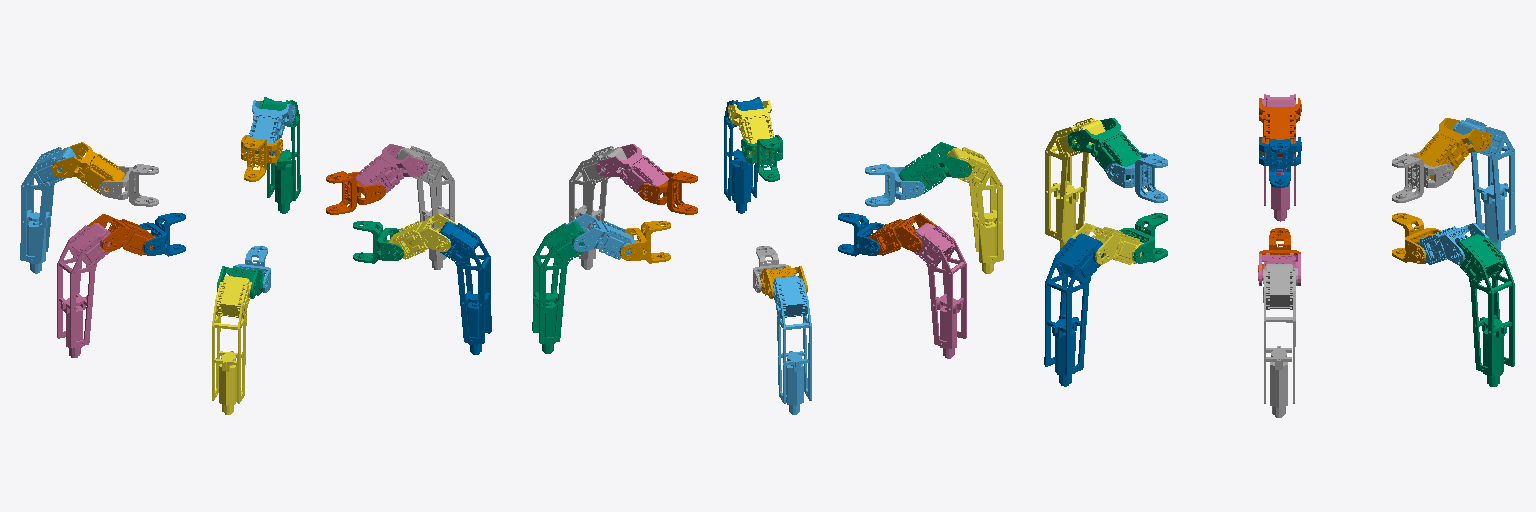
robot.urdf — hexapod:
<?xml version="1.0" ?>
<!-- =================================================================================== -->
<!-- |    This document was autogenerated by xacro from [local-path]/hexapod_ws/src/hexapod_description/urdf/hexapod_description_with_xacro.urdf | -->
<!-- |    EDITING THIS FILE BY HAND IS NOT RECOMMENDED                                 | -->
<!-- =================================================================================== -->
<robot name="hexapod">
  <!-- <link name ="ground">
    <inertial>
      <origin rpy="0 0 0" xyz="0 0 1.0"/>
      <mass value="1"/>
      <inertia ixx="0.3341666666666666" ixy="0.0" ixz="0.0" iyy="0.3341666666666666" iyz="0.0" izz="0.001666666666666667"/>
    </inertial>
  </link>
  <joint name="ground_link" type="floating">
    <origin rpy="0 0 0" xyz="0 0 0.05 "/>
    <parent link="ground"/>
    <child link="body"/>
    <axis xyz="1 1 1"/>
  </joint> -->

  <link name="body">
    <visual>
      <origin rpy="0 0 0" xyz="0 0 0"/>
      <geometry>
        <mesh filename="package://drake/examples/hexapod_drake/mesh/Body.obj"/>
      </geometry>
    </visual>
    <collision>
      <origin rpy="0 0 0" xyz="0 0 0"/>
      <geometry>
        <mesh filename="package://drake/examples/hexapod_drake/mesh/Body.obj"/>
      </geometry>
    </collision>
    <inertial>
      <origin rpy="0 0 0" xyz="0 0 1.0"/>
      <mass value="1"/>
      <inertia ixx="0.3341666666666666" ixy="0.0" ixz="0.0" iyy="0.3341666666666666" iyz="0.0" izz="0.001666666666666667"/>
    </inertial>
  </link>
  <!--Leg 1 front right-->
  <link name="link1">
    <visual>
      <origin rpy="0 0 0" xyz="0 0 0"/>
      <geometry>
        <mesh filename="package://drake/examples/hexapod_drake/mesh/Link1.obj"/>
      </geometry>
    </visual>
    <collision>
      <origin rpy="0 0 0" xyz="0 0 0"/>
      <geometry>
        <mesh filename="package://drake/examples/hexapod_drake/mesh/Link1.obj"/>
      </geometry>
    </collision>
    <inertial>
      <origin rpy="0 0 0" xyz="0 0 1.0"/>
      <mass value="1"/>
      <inertia ixx="0.3341666666666666" ixy="0.0" ixz="0.0" iyy="0.3341666666666666" iyz="0.0" izz="0.001666666666666667"/>
    </inertial>
  </link>
  <joint name="joint1" type="revolute">
    <origin rpy="3.14 0 -0.7853981633974483" xyz="-0.07591 -0.14091 0 "/>
    <parent link="body"/>
    <child link="link1"/>
    <axis xyz="0 0 1"/>
    <limit effort="87" lower="-1.0471975511965976" upper="1.0471975511965976" velocity="2.3925"/>
  </joint>
  <link name="link2">
    <visual>
      <origin rpy="0 0 0" xyz="0 0 0"/>
      <geometry>
        <mesh filename="package://drake/examples/hexapod_drake/mesh/Link2.obj"/>
      </geometry>
    </visual>
    <collision>
      <origin rpy="0 0 0" xyz="0 0 0"/>
      <geometry>
        <mesh filename="package://drake/examples/hexapod_drake/mesh/Link2.obj"/>
      </geometry>
    </collision>
    <inertial>
      <origin rpy="0 0 0" xyz="0 0 1.0"/>
      <mass value="1"/>
      <inertia ixx="0.3341666666666666" ixy="0.0" ixz="0.0" iyy="0.3341666666666666" iyz="0.0" izz="0.001666666666666667"/>
    </inertial>
  </link>
  <joint name="joint2" type="revolute">
    <origin rpy="0.5235987755982988 3.14 0" xyz="0 0.052 0"/>
    <parent link="link1"/>
    <child link="link2"/>
    <axis xyz="1 0 0"/>
    <limit effort="87" lower="-1.5707963267948966" upper="1.0471975511965976" velocity="2.3925"/>
  </joint>
  <link name="link3">
    <visual>
      <origin rpy="0 0 0" xyz="0 0 0"/>
      <geometry>
        <mesh filename="package://drake/examples/hexapod_drake/mesh/Link3.obj"/>
      </geometry>
    </visual>
    <collision>
      <origin rpy="0 0 0" xyz="0 0 0"/>
      <geometry>
        <mesh filename="package://drake/examples/hexapod_drake/mesh/Link3.obj"/>
      </geometry>
    </collision>
    <inertial>
      <origin rpy="0 0 0" xyz="0 0 1.0"/>
      <mass value="1"/>
      <inertia ixx="0.3341666666666666" ixy="0.0" ixz="0.0" iyy="0.3341666666666666" iyz="0.0" izz="0.001666666666666667"/>
    </inertial>
  </link>
  <joint name="joint3" type="revolute">
    <origin rpy="-1.0471975511965976 0 0" xyz="0 0.0645 -0.0145"/>
    <parent link="link2"/>
    <child link="link3"/>
    <axis xyz="1 0 0"/>
    <limit effort="87" lower="-0.5235987755982988" upper="2.0943951023931953" velocity="2.3925"/>
  </joint>
  <!--Leg 2 mid right-->
  <link name="link4">
    <visual>
      <origin rpy="0 0 0" xyz="0 0 0"/>
      <geometry>
        <mesh filename="package://drake/examples/hexapod_drake/mesh/Link1.obj"/>
      </geometry>
    </visual>
    <collision>
      <origin rpy="0 0 0" xyz="0 0 0"/>
      <geometry>
        <mesh filename="package://drake/examples/hexapod_drake/mesh/Link1.obj"/>
      </geometry>
    </collision>
    <inertial>
      <origin rpy="0 0 0" xyz="0 0 1.0"/>
      <mass value="1"/>
      <inertia ixx="0.3341666666666666" ixy="0.0" ixz="0.0" iyy="0.3341666666666666" iyz="0.0" izz="0.001666666666666667"/>
    </inertial>
  </link>
  <joint name="joint4" type="revolute">
    <origin rpy="3.14 0 -1.5707963267948966" xyz="-0.117 0 0 "/>
    <parent link="body"/>
    <child link="link4"/>
    <axis xyz="0 0 1"/>
    <limit effort="87" lower="-1.0471975511965976" upper="1.0471975511965976" velocity="2.3925"/>
  </joint>
  <link name="link5">
    <visual>
      <origin rpy="0 0 0" xyz="0 0 0"/>
      <geometry>
        <mesh filename="package://drake/examples/hexapod_drake/mesh/Link2.obj"/>
      </geometry>
    </visual>
    <collision>
      <origin rpy="0 0 0" xyz="0 0 0"/>
      <geometry>
        <mesh filename="package://drake/examples/hexapod_drake/mesh/Link2.obj"/>
      </geometry>
    </collision>
    <inertial>
      <origin rpy="0 0 0" xyz="0 0 1.0"/>
      <mass value="1"/>
      <inertia ixx="0.3341666666666666" ixy="0.0" ixz="0.0" iyy="0.3341666666666666" iyz="0.0" izz="0.001666666666666667"/>
    </inertial>
  </link>
  <joint name="joint5" type="revolute">
    <origin rpy="0.5235987755982988 3.14 0" xyz="0 0.052 0"/>
    <parent link="link4"/>
    <child link="link5"/>
    <axis xyz="1 0 0"/>
    <limit effort="87" lower="-1.5707963267948966" upper="1.0471975511965976" velocity="2.3925"/>
  </joint>
  <link name="link6">
    <visual>
      <origin rpy="0 0 0" xyz="0 0 0"/>
      <geometry>
        <mesh filename="package://drake/examples/hexapod_drake/mesh/Link3.obj"/>
      </geometry>
    </visual>
    <collision>
      <origin rpy="0 0 0" xyz="0 0 0"/>
      <geometry>
        <mesh filename="package://drake/examples/hexapod_drake/mesh/Link3.obj"/>
      </geometry>
    </collision>
    <inertial>
      <origin rpy="0 0 0" xyz="0 0 1.0"/>
      <mass value="1"/>
      <inertia ixx="0.3341666666666666" ixy="0.0" ixz="0.0" iyy="0.3341666666666666" iyz="0.0" izz="0.001666666666666667"/>
    </inertial>
  </link>
  <joint name="joint6" type="revolute">
    <origin rpy="-1.0471975511965976 0 0" xyz="0 0.0645 -0.0145"/>
    <parent link="link5"/>
    <child link="link6"/>
    <axis xyz="1 0 0"/>
    <limit effort="87" lower="-0.5235987755982988" upper="2.0943951023931953" velocity="2.3925"/>
  </joint>
  <!--Leg 3 back right-->
  <link name="link7">
    <visual>
      <origin rpy="0 0 0" xyz="0 0 0"/>
      <geometry>
        <mesh filename="package://drake/examples/hexapod_drake/mesh/Link1.obj"/>
      </geometry>
    </visual>
    <collision>
      <origin rpy="0 0 0" xyz="0 0 0"/>
      <geometry>
        <mesh filename="package://drake/examples/hexapod_drake/mesh/Link1.obj"/>
      </geometry>
    </collision>
    <inertial>
      <origin rpy="0 0 0" xyz="0 0 1.0"/>
      <mass value="1"/>
      <inertia ixx="0.3341666666666666" ixy="0.0" ixz="0.0" iyy="0.3341666666666666" iyz="0.0" izz="0.001666666666666667"/>
    </inertial>
  </link>
  <joint name="joint7" type="revolute">
    <origin rpy="3.14 0 -2.35619" xyz="-0.07591 0.14091 0 "/>
    <parent link="body"/>
    <child link="link7"/>
    <axis xyz="0 0 1"/>
    <limit effort="87" lower="-1.0471975511965976" upper="1.0471975511965976" velocity="2.3925"/>
  </joint>
  <link name="link8">
    <visual>
      <origin rpy="0 0 0" xyz="0 0 0"/>
      <geometry>
        <mesh filename="package://drake/examples/hexapod_drake/mesh/Link2.obj"/>
      </geometry>
    </visual>
    <collision>
      <origin rpy="0 0 0" xyz="0 0 0"/>
      <geometry>
        <mesh filename="package://drake/examples/hexapod_drake/mesh/Link2.obj"/>
      </geometry>
    </collision>
    <inertial>
      <origin rpy="0 0 0" xyz="0 0 1.0"/>
      <mass value="1"/>
      <inertia ixx="0.3341666666666666" ixy="0.0" ixz="0.0" iyy="0.3341666666666666" iyz="0.0" izz="0.001666666666666667"/>
    </inertial>
  </link>
  <joint name="joint8" type="revolute">
    <origin rpy="0.5235987755982988 3.14 0" xyz="0 0.052 0"/>
    <parent link="link7"/>
    <child link="link8"/>
    <axis xyz="1 0 0"/>
    <limit effort="87" lower="-1.5707963267948966" upper="1.0471975511965976" velocity="2.3925"/>
  </joint>
  <link name="link9">
    <visual>
      <origin rpy="0 0 0" xyz="0 0 0"/>
      <geometry>
        <mesh filename="package://drake/examples/hexapod_drake/mesh/Link3.obj"/>
      </geometry>
    </visual>
    <collision>
      <origin rpy="0 0 0" xyz="0 0 0"/>
      <geometry>
        <mesh filename="package://drake/examples/hexapod_drake/mesh/Link3.obj"/>
      </geometry>
    </collision>
    <inertial>
      <origin rpy="0 0 0" xyz="0 0 1.0"/>
      <mass value="1"/>
      <inertia ixx="0.3341666666666666" ixy="0.0" ixz="0.0" iyy="0.3341666666666666" iyz="0.0" izz="0.001666666666666667"/>
    </inertial>
  </link>
  <joint name="joint9" type="revolute">
    <origin rpy="-1.0471975511965976 0 0" xyz="0 0.0645 -0.0145"/>
    <parent link="link8"/>
    <child link="link9"/>
    <axis xyz="1 0 0"/>
    <limit effort="87" lower="-0.5235987755982988" upper="2.0943951023931953" velocity="2.3925"/>
  </joint>
  <!--Leg 4 front left-->
  <link name="link10">
    <visual>
      <origin rpy="0 0 0" xyz="0 0 0"/>
      <geometry>
        <mesh filename="package://drake/examples/hexapod_drake/mesh/Link1.obj"/>
      </geometry>
    </visual>
    <collision>
      <origin rpy="0 0 0" xyz="0 0 0"/>
      <geometry>
        <mesh filename="package://drake/examples/hexapod_drake/mesh/Link1.obj"/>
      </geometry>
    </collision>
    <inertial>
      <origin rpy="0 0 0" xyz="0 0 1.0"/>
      <mass value="1"/>
      <inertia ixx="0.3341666666666666" ixy="0.0" ixz="0.0" iyy="0.3341666666666666" iyz="0.0" izz="0.001666666666666667"/>
    </inertial>
  </link>
  <joint name="joint10" type="revolute">
    <origin rpy="3.14 0 0.78699" xyz="0.07591 -0.14091 0 "/>
    <parent link="body"/>
    <child link="link10"/>
    <axis xyz="0 0 1"/>
    <limit effort="87" lower="-1.0471975511965976" upper="1.0471975511965976" velocity="2.3925"/>
  </joint>
  <link name="link11">
    <visual>
      <origin rpy="0 0 0" xyz="0 0 0"/>
      <geometry>
        <mesh filename="package://drake/examples/hexapod_drake/mesh/Link2.obj"/>
      </geometry>
    </visual>
    <collision>
      <origin rpy="0 0 0" xyz="0 0 0"/>
      <geometry>
        <mesh filename="package://drake/examples/hexapod_drake/mesh/Link2.obj"/>
      </geometry>
    </collision>
    <inertial>
      <origin rpy="0 0 0" xyz="0 0 1.0"/>
      <mass value="1"/>
      <inertia ixx="0.3341666666666666" ixy="0.0" ixz="0.0" iyy="0.3341666666666666" iyz="0.0" izz="0.001666666666666667"/>
    </inertial>
  </link>
  <joint name="joint11" type="revolute">
    <origin rpy="0.5235987755982988 3.14 0" xyz="0 0.052 0"/>
    <parent link="link10"/>
    <child link="link11"/>
    <axis xyz="1 0 0"/>
    <limit effort="87" lower="-1.5707963267948966" upper="1.0471975511965976" velocity="2.3925"/>
  </joint>
  <link name="link12">
    <visual>
      <origin rpy="0 0 0" xyz="0 0 0"/>
      <geometry>
        <mesh filename="package://drake/examples/hexapod_drake/mesh/Link3.obj"/>
      </geometry>
    </visual>
    <collision>
      <origin rpy="0 0 0" xyz="0 0 0"/>
      <geometry>
        <mesh filename="package://drake/examples/hexapod_drake/mesh/Link3.obj"/>
      </geometry>
    </collision>
    <inertial>
      <origin rpy="0 0 0" xyz="0 0 1.0"/>
      <mass value="1"/>
      <inertia ixx="0.3341666666666666" ixy="0.0" ixz="0.0" iyy="0.3341666666666666" iyz="0.0" izz="0.001666666666666667"/>
    </inertial>
  </link>
  <joint name="joint12" type="revolute">
    <origin rpy="-1.0471975511965976 0 0" xyz="0 0.0645 -0.0145"/>
    <parent link="link11"/>
    <child link="link12"/>
    <axis xyz="1 0 0"/>
    <limit effort="87" lower="-0.5235987755982988" upper="2.0943951023931953" velocity="2.3925"/>
  </joint>
  <!--Leg 5 mid left-->
  <link name="link13">
    <visual>
      <origin rpy="0 0 0" xyz="0 0 0"/>
      <geometry>
        <mesh filename="package://drake/examples/hexapod_drake/mesh/Link1.obj"/>
      </geometry>
    </visual>
    <collision>
      <origin rpy="0 0 0" xyz="0 0 0"/>
      <geometry>
        <mesh filename="package://drake/examples/hexapod_drake/mesh/Link1.obj"/>
      </geometry>
    </collision>
    <inertial>
      <origin rpy="0 0 0" xyz="0 0 1.0"/>
      <mass value="1"/>
      <inertia ixx="0.3341666666666666" ixy="0.0" ixz="0.0" iyy="0.3341666666666666" iyz="0.0" izz="0.001666666666666667"/>
    </inertial>
  </link>
  <joint name="joint13" type="revolute">
    <origin rpy="3.14 0 1.57" xyz="0.117 0 0 "/>
    <parent link="body"/>
    <child link="link13"/>
    <axis xyz="0 0 1"/>
    <limit effort="87" lower="-1.0471975511965976" upper="1.0471975511965976" velocity="2.3925"/>
  </joint>
  <link name="link14">
    <visual>
      <origin rpy="0 0 0" xyz="0 0 0"/>
      <geometry>
        <mesh filename="package://drake/examples/hexapod_drake/mesh/Link2.obj"/>
      </geometry>
    </visual>
    <collision>
      <origin rpy="0 0 0" xyz="0 0 0"/>
      <geometry>
        <mesh filename="package://drake/examples/hexapod_drake/mesh/Link2.obj"/>
      </geometry>
    </collision>
    <inertial>
      <origin rpy="0 0 0" xyz="0 0 1.0"/>
      <mass value="1"/>
      <inertia ixx="0.3341666666666666" ixy="0.0" ixz="0.0" iyy="0.3341666666666666" iyz="0.0" izz="0.001666666666666667"/>
    </inertial>
  </link>
  <joint name="joint14" type="revolute">
    <origin rpy="0.5235987755982988 3.14 0" xyz="0 0.052 0"/>
    <parent link="link13"/>
    <child link="link14"/>
    <axis xyz="1 0 0"/>
    <limit effort="87" lower="-1.5707963267948966" upper="1.0471975511965976" velocity="2.3925"/>
  </joint>
  <link name="link15">
    <visual>
      <origin rpy="0 0 0" xyz="0 0 0"/>
      <geometry>
        <mesh filename="package://drake/examples/hexapod_drake/mesh/Link3.obj"/>
      </geometry>
    </visual>
    <collision>
      <origin rpy="0 0 0" xyz="0 0 0"/>
      <geometry>
        <mesh filename="package://drake/examples/hexapod_drake/mesh/Link3.obj"/>
      </geometry>
    </collision>
    <inertial>
      <origin rpy="0 0 0" xyz="0 0 1.0"/>
      <mass value="1"/>
      <inertia ixx="0.3341666666666666" ixy="0.0" ixz="0.0" iyy="0.3341666666666666" iyz="0.0" izz="0.001666666666666667"/>
    </inertial>
  </link>
  <joint name="joint15" type="revolute">
    <origin rpy="-1.0471975511965976 0 0" xyz="0 0.0645 -0.0145"/>
    <parent link="link14"/>
    <child link="link15"/>
    <axis xyz="1 0 0"/>
    <limit effort="87" lower="-0.5235987755982988" upper="2.0943951023931953" velocity="2.3925"/>
  </joint>
  <!--Leg 6 back left-->
  <link name="link16">
    <visual>
      <origin rpy="0 0 0" xyz="0 0 0"/>
      <geometry>
        <mesh filename="package://drake/examples/hexapod_drake/mesh/Link1.obj"/>
      </geometry>
    </visual>
    <collision>
      <origin rpy="0 0 0" xyz="0 0 0"/>
      <geometry>
        <mesh filename="package://drake/examples/hexapod_drake/mesh/Link1.obj"/>
      </geometry>
    </collision>
    <inertial>
      <origin rpy="0 0 0" xyz="0 0 1.0"/>
      <mass value="1"/>
      <inertia ixx="0.3341666666666666" ixy="0.0" ixz="0.0" iyy="0.3341666666666666" iyz="0.0" izz="0.001666666666666667"/>
    </inertial>
  </link>
  <joint name="joint16" type="revolute">
    <origin rpy="3.14 0 2.3546018366" xyz="0.07591 0.14091 0 "/>
    <parent link="body"/>
    <child link="link16"/>
    <axis xyz="0 0 1"/>
    <limit effort="87" lower="-1.0471975511965976" upper="1.0471975511965976" velocity="2.3925"/>
  </joint>
  <link name="link17">
    <visual>
      <origin rpy="0 0 0" xyz="0 0 0"/>
      <geometry>
        <mesh filename="package://drake/examples/hexapod_drake/mesh/Link2.obj"/>
      </geometry>
    </visual>
    <collision>
      <origin rpy="0 0 0" xyz="0 0 0"/>
      <geometry>
        <mesh filename="package://drake/examples/hexapod_drake/mesh/Link2.obj"/>
      </geometry>
    </collision>
    <inertial>
      <origin rpy="0 0 0" xyz="0 0 1.0"/>
      <mass value="1"/>
      <inertia ixx="0.3341666666666666" ixy="0.0" ixz="0.0" iyy="0.3341666666666666" iyz="0.0" izz="0.001666666666666667"/>
    </inertial>
  </link>
  <joint name="joint17" type="revolute">
    <origin rpy="0.5235987755982988 3.14 0" xyz="0 0.052 0"/>
    <parent link="link16"/>
    <child link="link17"/>
    <axis xyz="1 0 0"/>
    <limit effort="87" lower="-1.5707963267948966" upper="1.0471975511965976" velocity="2.3925"/>
  </joint>
  <link name="link18">
    <visual>
      <origin rpy="0 0 0" xyz="0 0 0"/>
      <geometry>
        <mesh filename="package://drake/examples/hexapod_drake/mesh/Link3.obj"/>
      </geometry>
    </visual>
    <collision>
      <origin rpy="0 0 0" xyz="0 0 0"/>
      <geometry>
        <mesh filename="package://drake/examples/hexapod_drake/mesh/Link3.obj"/>
      </geometry>
    </collision>
    <inertial>
      <origin rpy="0 0 0" xyz="0 0 1.0"/>
      <mass value="1"/>
      <inertia ixx="0.3341666666666666" ixy="0.0" ixz="0.0" iyy="0.3341666666666666" iyz="0.0" izz="0.001666666666666667"/>
    </inertial>
  </link>
  <joint name="joint18" type="revolute">
    <origin rpy="-1.0471975511965976 0 0" xyz="0 0.0645 -0.0145"/>
    <parent link="link17"/>
    <child link="link18"/>
    <axis xyz="1 0 0"/>
    <limit effort="87" lower="-0.5235987755982988" upper="2.0943951023931953" velocity="2.3925"/>
  </joint>
</robot>

--- What the picture shows (computed from the rendered views, not written in the file) ---
3 views of the same robot in one strip: view 1: azimuth 30°, elevation 25°; view 2: azimuth 150°, elevation 25°; view 3: azimuth 270°, elevation 25° (orthographic).
Robot: hexapod — 19 links, 18 joints (18 revolute); root link body; default pose: every joint at zero.
Links seen in each view (by area): view 1: link6, link12, link3, link9, link15, link18, link8, link14, link11, link5, link13, link7 (+6 smaller); view 2: link6, link18, link9, link3, link15, link12, link2, link14, link17, link5, link13, link1 (+6 smaller); view 3: link12, link18, link9, link3, link15, link2, link8, link1, link7, link4, link17, link11 (+6 smaller).
Link boxes in pixels (x1,y1,x2,y2): link6: (57, 223, 110, 357); link12: (439, 222, 491, 354); link3: (212, 276, 251, 414); link9: (20, 147, 76, 273); link15: (396, 146, 454, 269); link18: (258, 97, 300, 213); link8: (52, 142, 125, 194); link14: (355, 144, 427, 195); link11: (388, 213, 457, 259); link5: (87, 214, 155, 255); link13: (326, 171, 385, 214); link7: (99, 164, 158, 206); link6: (913, 223, 966, 358); link18: (532, 221, 586, 353); link9: (772, 276, 811, 414); link3: (947, 147, 1003, 273); link15: (569, 146, 626, 269); link12: (724, 97, 763, 213); link2: (899, 142, 971, 194); link14: (596, 144, 668, 195); link17: (566, 213, 635, 259); link5: (868, 213, 936, 255); link13: (638, 171, 697, 214); link1: (865, 164, 924, 206); link12: (1044, 233, 1103, 386); link18: (1457, 234, 1514, 386); link9: (1452, 118, 1515, 249); link3: (1045, 118, 1105, 248); link15: (1263, 264, 1297, 417); link2: (1068, 118, 1141, 179); link8: (1416, 118, 1491, 179); link1: (1106, 152, 1167, 202); link7: (1392, 152, 1453, 202); link4: (1259, 137, 1301, 187); link17: (1416, 223, 1488, 264); link11: (1071, 223, 1143, 264).
Bounding box of the posed robot: 0.5797 × 0.5479 × 0.182 m (x, y, z).
Meshes: 4 distinct files referenced, 18 mesh visuals loaded (3 OBJ); not drawn: 1 (reference not matched to a file when rendering).